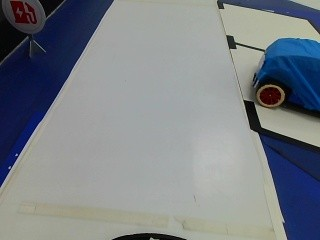battery: (0, 0, 47, 34)
car: (248, 33, 318, 115)
